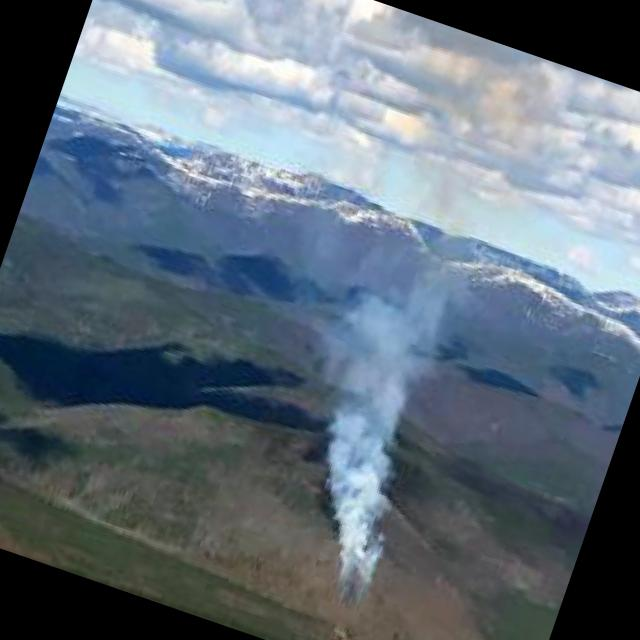smoke: (278, 247, 482, 600)
